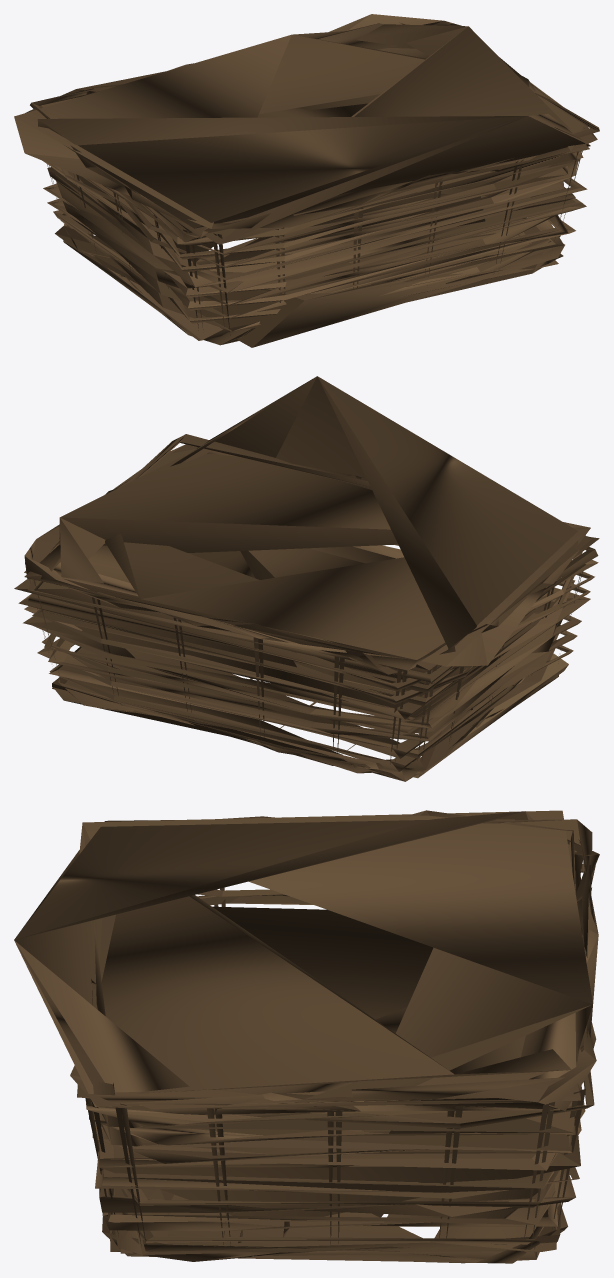
File: wicker-basket.glb
3 views of the same model, one above another, from view 1: azimuth 30°, elevation 25°; view 2: azimuth 150°, elevation 25°; view 3: azimuth 270°, elevation 25° (orthographic). The views are drawn at different scales.
Parts seen in each view (by area): view 1: wicker-basket; view 2: wicker-basket; view 3: wicker-basket.
Part boxes in pixels (x1,y1,x2,y2): wicker-basket: (14, 14, 599, 347); wicker-basket: (14, 376, 599, 781); wicker-basket: (14, 810, 599, 1263).
Bounding box in the file's own units: 0.4012 × 0.1688 × 0.326.
